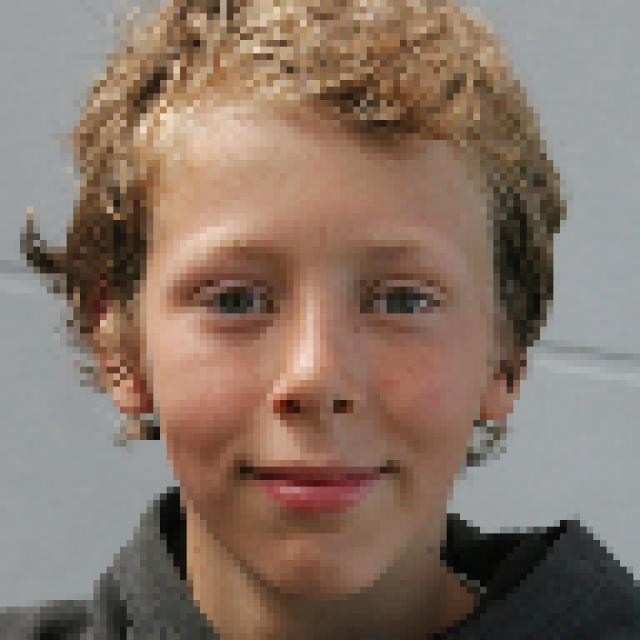happy: (99, 54, 539, 587)
